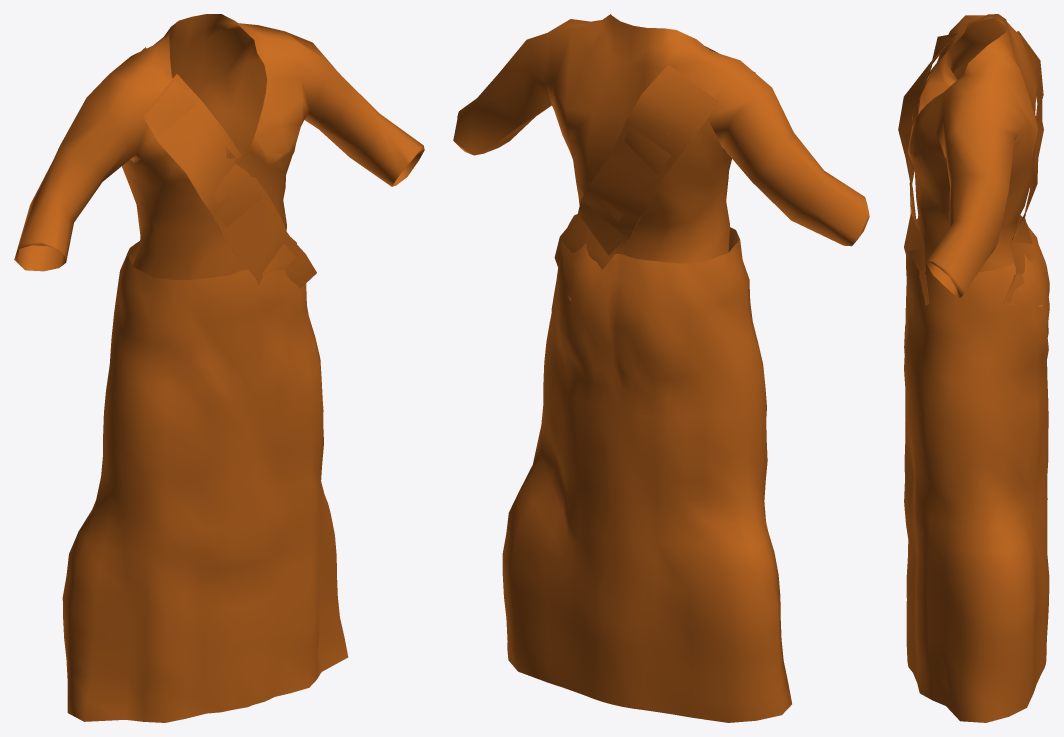
Rendered from monk_robe.glb.
3 views of the same model, side by side, from view 1: azimuth 30°, elevation 25°; view 2: azimuth 150°, elevation 25°; view 3: azimuth 270°, elevation 25° (orthographic). The views are drawn at different scales.
Parts seen in each view (by area): view 1: monk_robe; view 2: monk_robe; view 3: monk_robe.
Boxes of the visible parts, x1,y1,x2,y2 form: monk_robe: (14, 14, 424, 722); monk_robe: (453, 14, 869, 722); monk_robe: (898, 14, 1049, 722).
Bounding box in the file's own units: 0.9207 × 1.42 × 0.3077.
